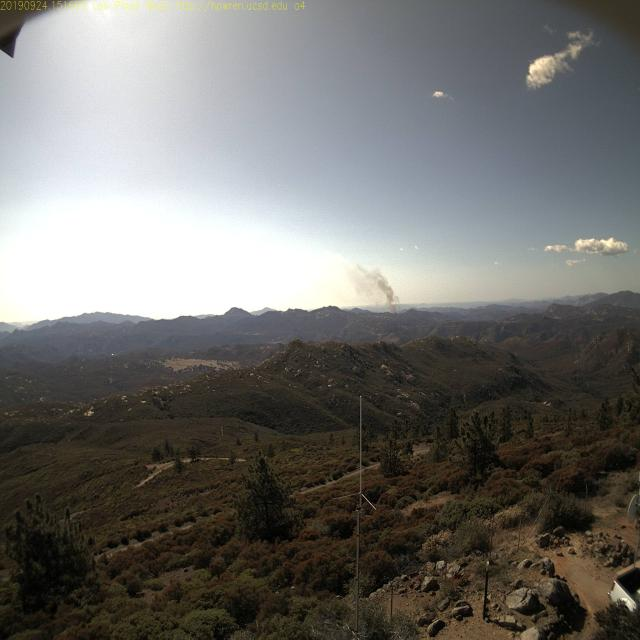smoke: (372, 283, 403, 317)
